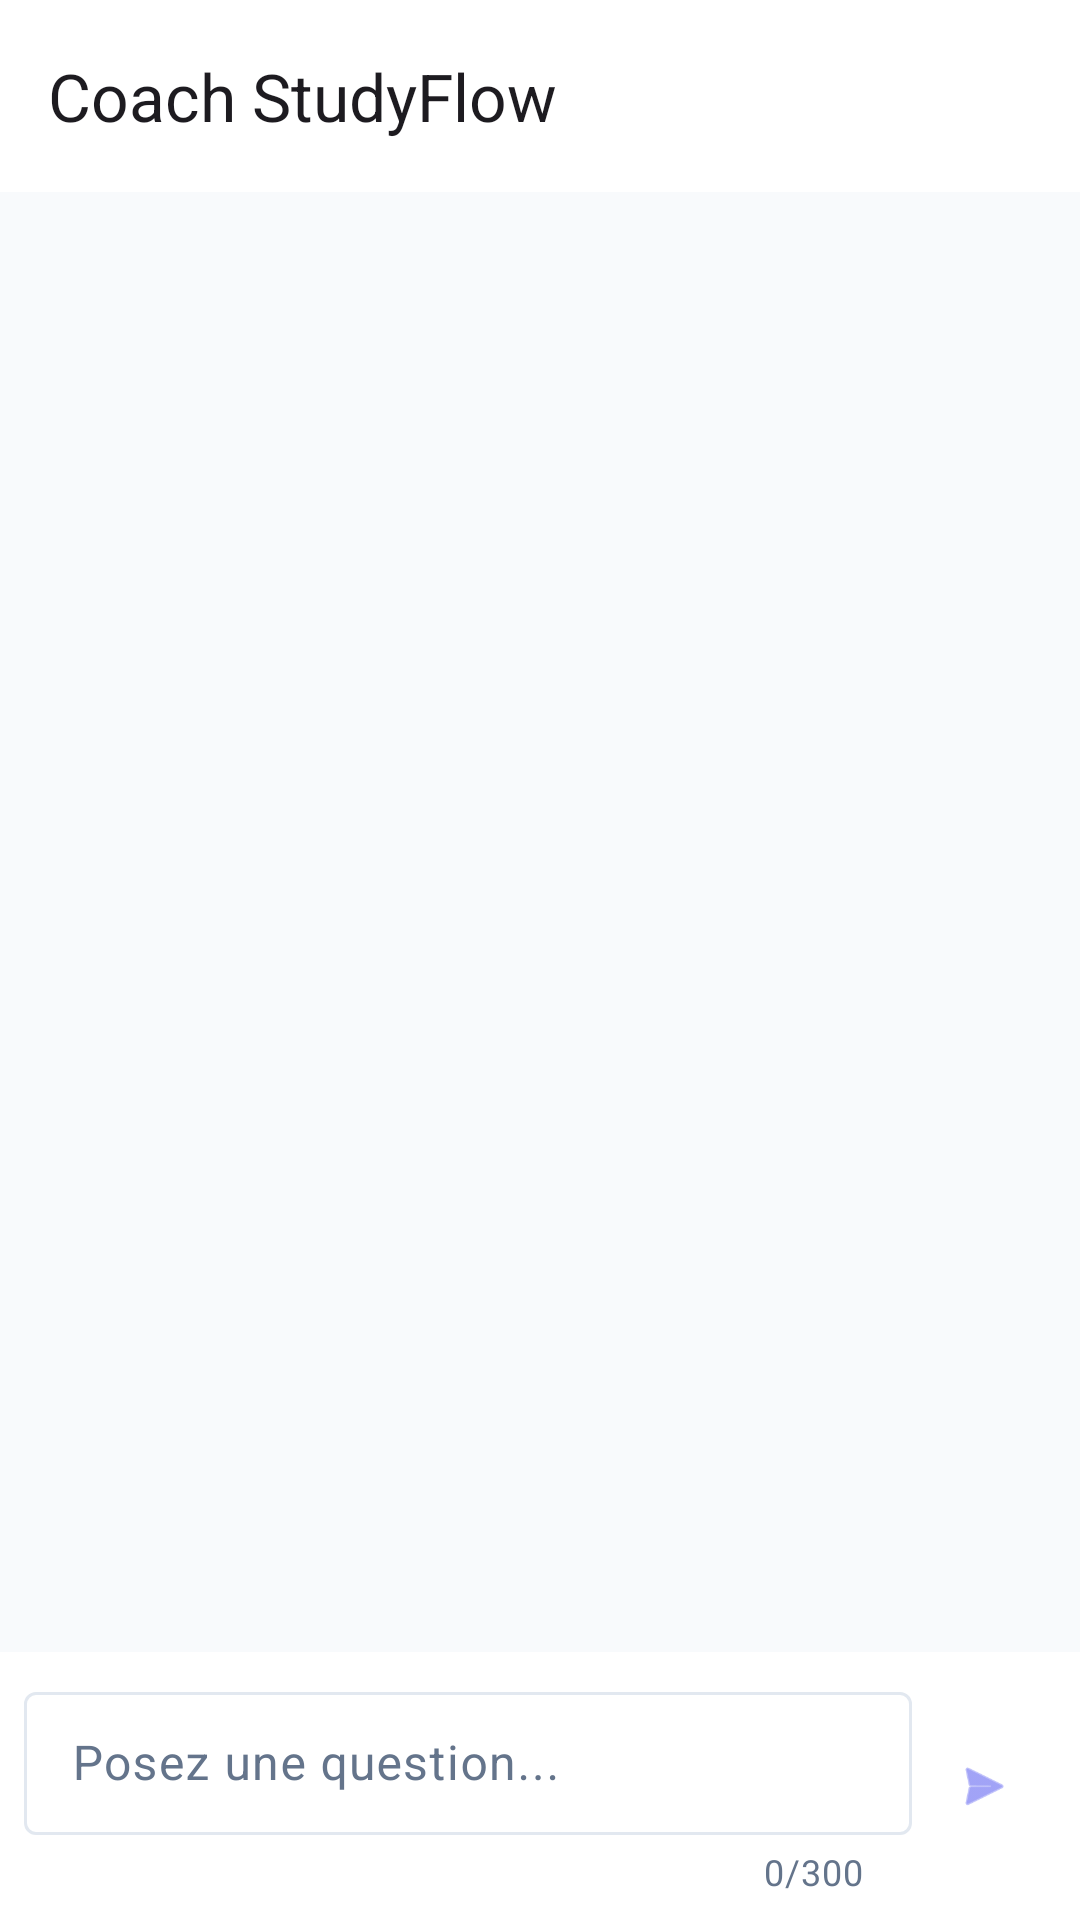

Locate icon controls on the screen. Image size 1080×1920, boxes as (x1, y1, x2, y2).
send: (965, 1767, 1004, 1805)
